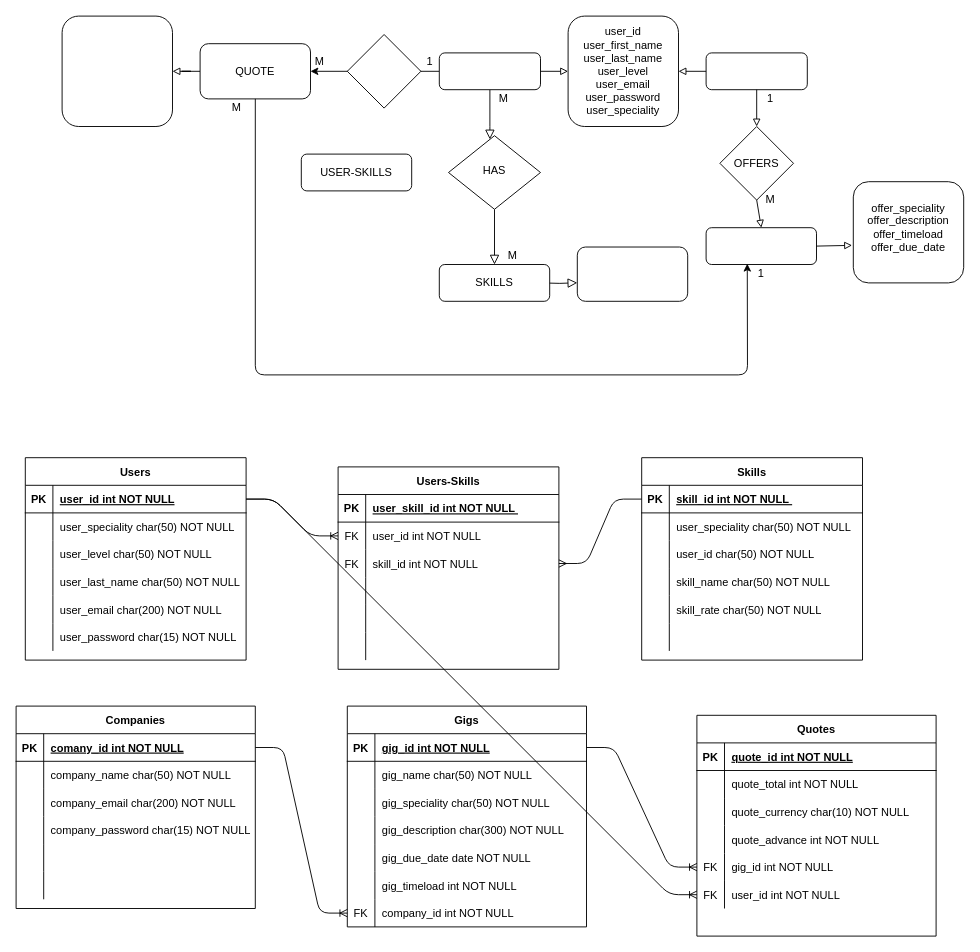
The diagram is 980 pixels wide and 952 high, and some of its shapes have lost their labels. Each missing label, with the centre of its shape:
"COMPANY USERS" belongs at point (756, 71).
"GIGS (TASK OFFERS)" belongs at point (760, 245).
"MAKES" belongs at point (383, 71).
"quote_total quote_currency quote_advance" belongs at point (116, 70).
"skill_id skill_name skill_rate" belongs at point (632, 273).
"USER" belongs at point (489, 71).
